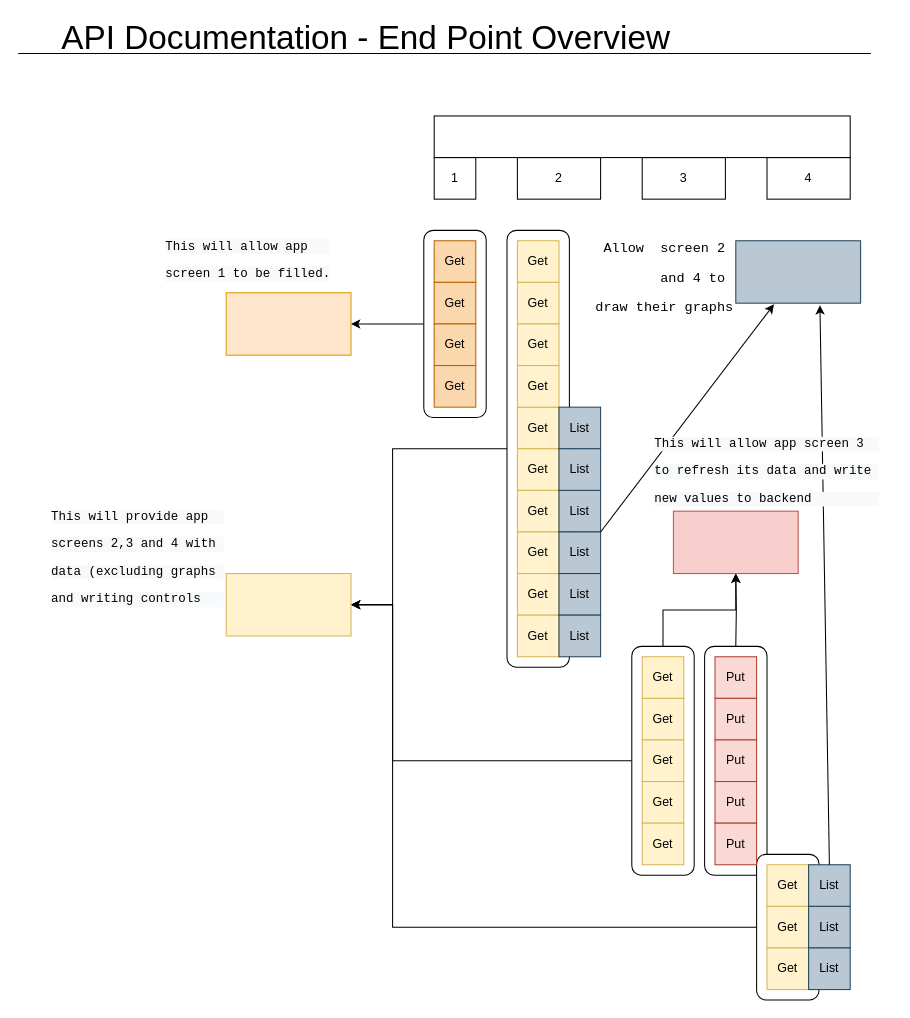
Some shapes in this 910 by 1018 pixel diagram are drawn without their labels. The shapes that lost their labels are listed below. From the top down, each one's box as (x1, y1, x2, y2) in pixels, then its label:
(433, 115, 850, 158): Screens Needing Data
(735, 240, 861, 303): EP4 List Data
(225, 292, 351, 355): EP1 Basic Data
(672, 510, 798, 574): EP3 Writeable Data
(225, 573, 351, 636): EP2 Full Data
